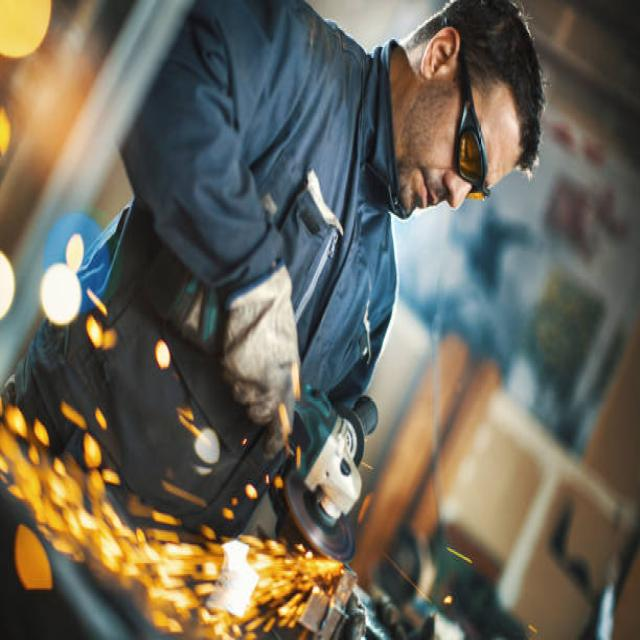gloves: (224, 243, 303, 463)
